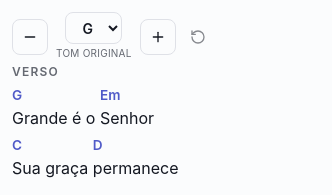
Test: TransposeControl › mostra o deslocamento aplicado
This screenshot has width=332, height=195.
Click the button named "Baixar meio tom".
click(30, 36)  # box top-left (12, 18), bottom-right (48, 54)
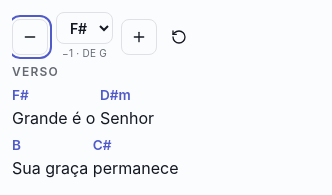
Expected: the text "−1 · de G" is shown, top-left (62, 46), bottom-right (107, 61)
